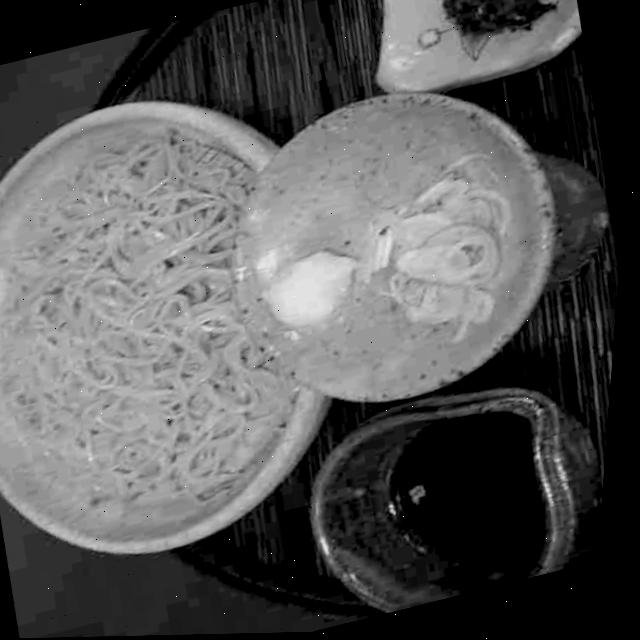面条主食: (0, 40, 439, 600)
